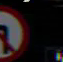Don't turn left: (0, 5, 35, 59)
